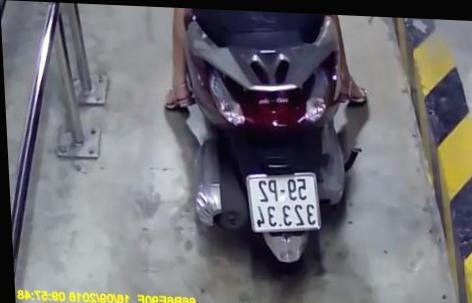License_Plate: (238, 163, 332, 244)
